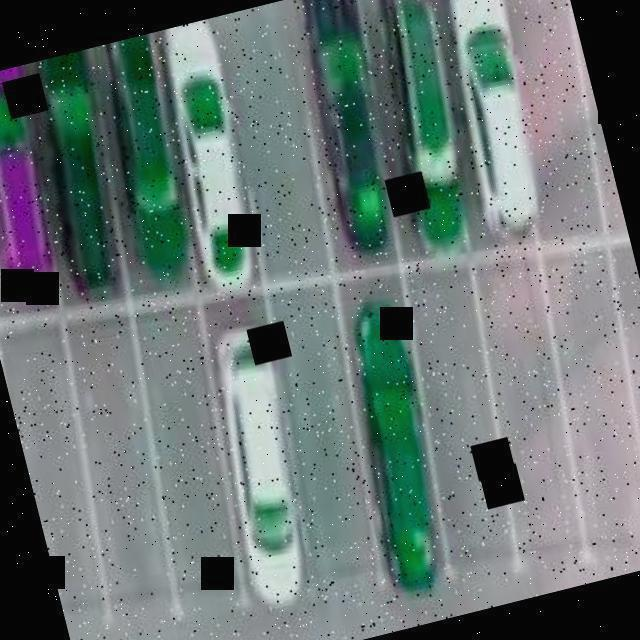car: (149, 18, 269, 272), (352, 0, 481, 232), (287, 0, 408, 247), (202, 339, 318, 584), (419, 0, 547, 220), (338, 321, 450, 545), (88, 32, 202, 252), (20, 52, 124, 258), (0, 67, 62, 286)
free: (258, 321, 390, 567), (528, 258, 640, 512), (398, 292, 520, 522), (132, 351, 253, 579), (471, 298, 591, 524), (59, 349, 178, 576), (490, 0, 611, 221), (3, 360, 112, 578), (226, 53, 335, 259)
